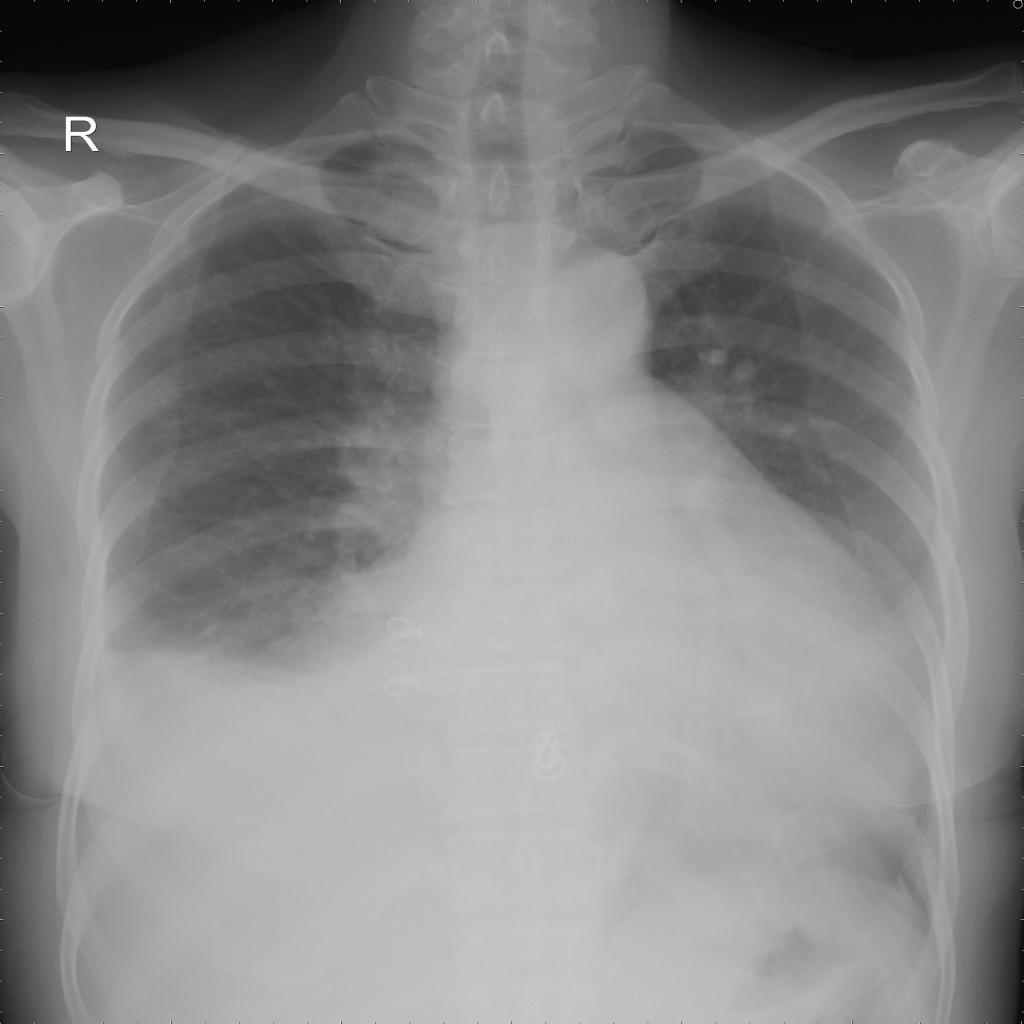Nodule: (735, 361, 759, 383), (709, 349, 729, 366)
